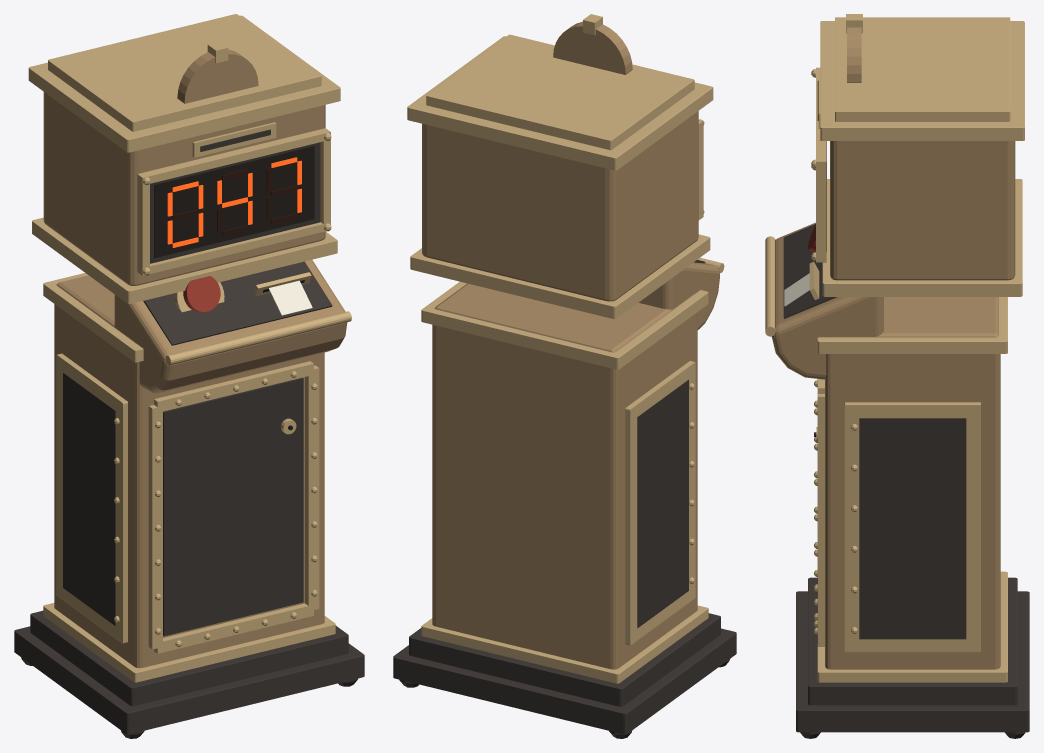
File: queue_machine.glb
3 views of the same model, side by side, from view 1: azimuth 30°, elevation 25°; view 2: azimuth 150°, elevation 25°; view 3: azimuth 270°, elevation 25° (orthographic). The views are drawn at different scales.
Parts seen in each view (by area): view 1: cs_queue_machine_m4; view 2: cs_queue_machine_m4; view 3: cs_queue_machine_m4.
Part boxes in pixels (left/top/right/bottom): cs_queue_machine_m4: left=14, top=14, right=364, bottom=738; cs_queue_machine_m4: left=393, top=14, right=736, bottom=738; cs_queue_machine_m4: left=765, top=14, right=1029, bottom=738.
Bounding box in the file's own units: 0.58 × 1.51 × 0.543.
